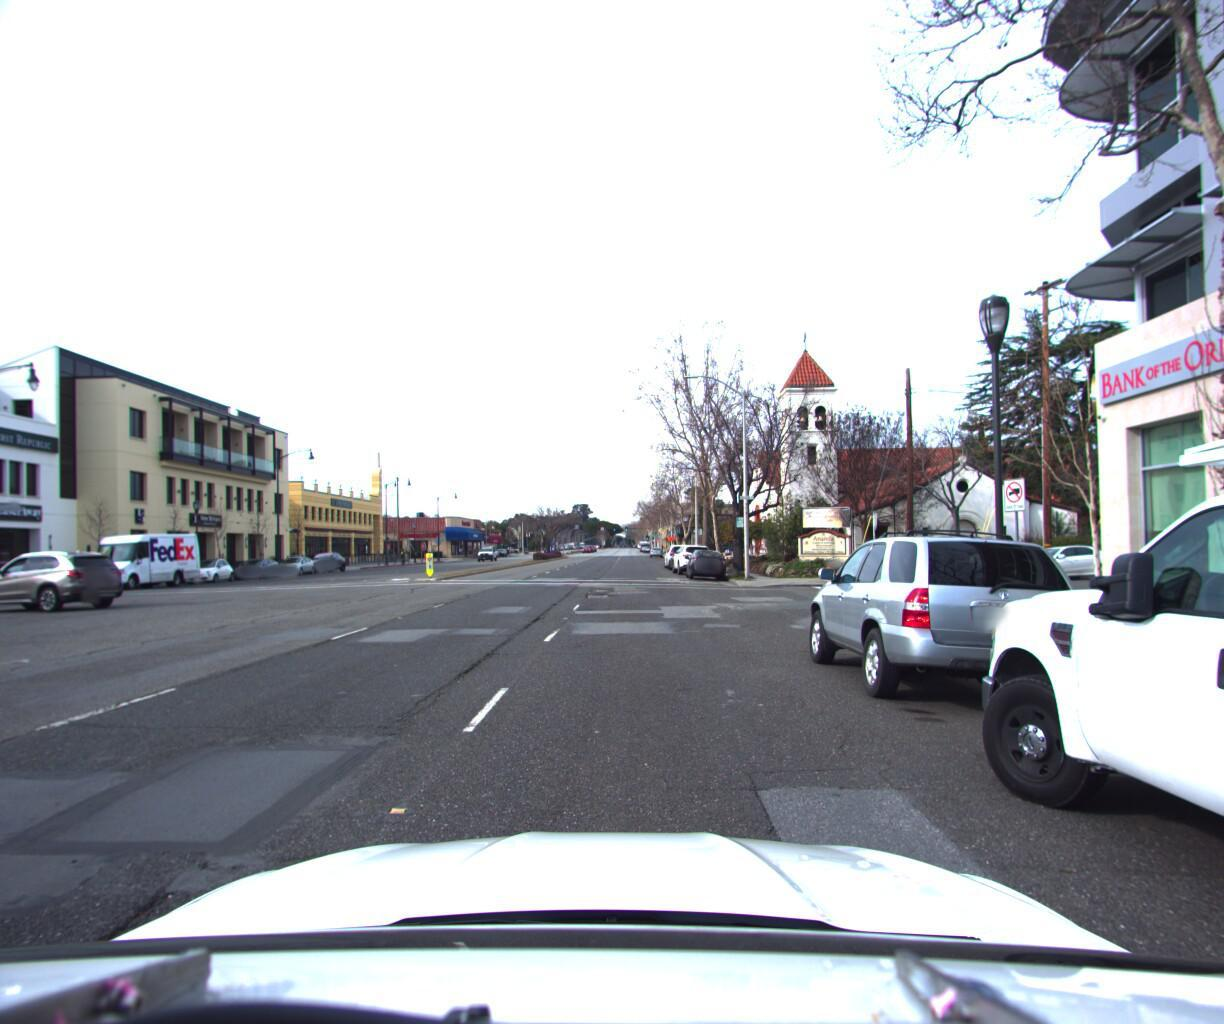car: (788, 527, 1110, 739), (986, 538, 1119, 579), (184, 555, 239, 584), (682, 543, 727, 578), (670, 539, 713, 573), (231, 554, 285, 579), (274, 551, 322, 575), (660, 538, 698, 566)
truck: (76, 529, 204, 594)
